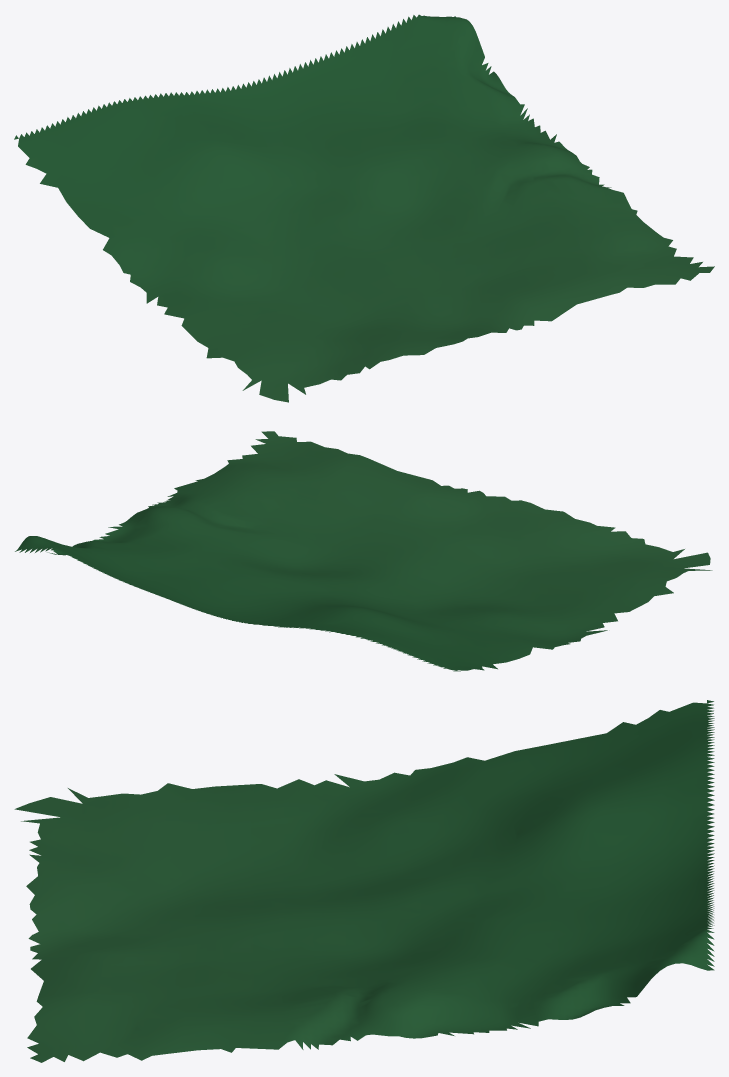
Rendered from payo_land_x1_y5.glb.
The picture shows the model from 3 angles, top to bottom: view 1: azimuth 30°, elevation 25°; view 2: azimuth 150°, elevation 25°; view 3: azimuth 270°, elevation 25°; orthographic projection. The views are drawn at different scales.
Visible parts, largest first — view 1: payo_land_x1_y5; view 2: payo_land_x1_y5; view 3: payo_land_x1_y5.
Part boxes in pixels (<box>): payo_land_x1_y5: <box>14,14,714,402</box>; payo_land_x1_y5: <box>15,431,712,671</box>; payo_land_x1_y5: <box>14,700,714,1062</box>.
Bounding box in the file's own units: 269 × 55.55 × 265.
